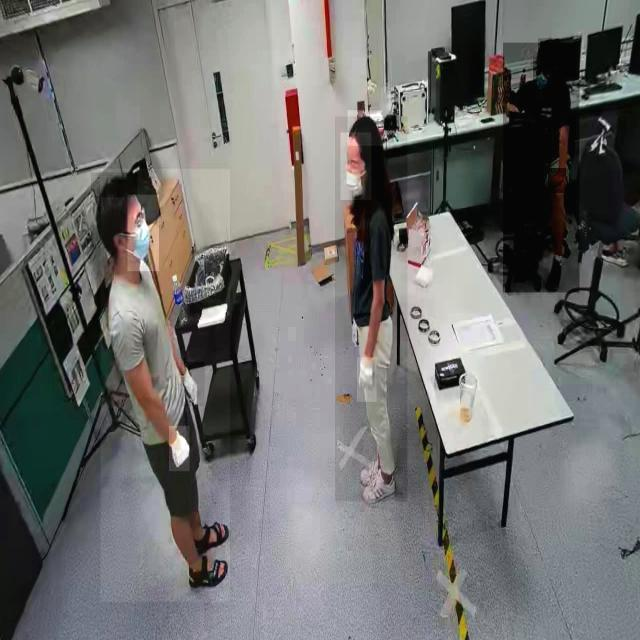face_mask: (127, 195, 159, 271), (341, 132, 372, 200), (532, 58, 554, 97)
hand_glove: (180, 362, 204, 406), (168, 426, 190, 472), (356, 357, 376, 403)
hand_noglove: (548, 168, 566, 194)
head_nohelmet: (347, 110, 383, 147), (90, 172, 138, 198), (538, 38, 560, 59)
person: (100, 169, 230, 603), (334, 116, 408, 502), (502, 43, 580, 293)
shoes: (358, 446, 392, 491), (361, 467, 396, 510), (540, 250, 566, 300)
